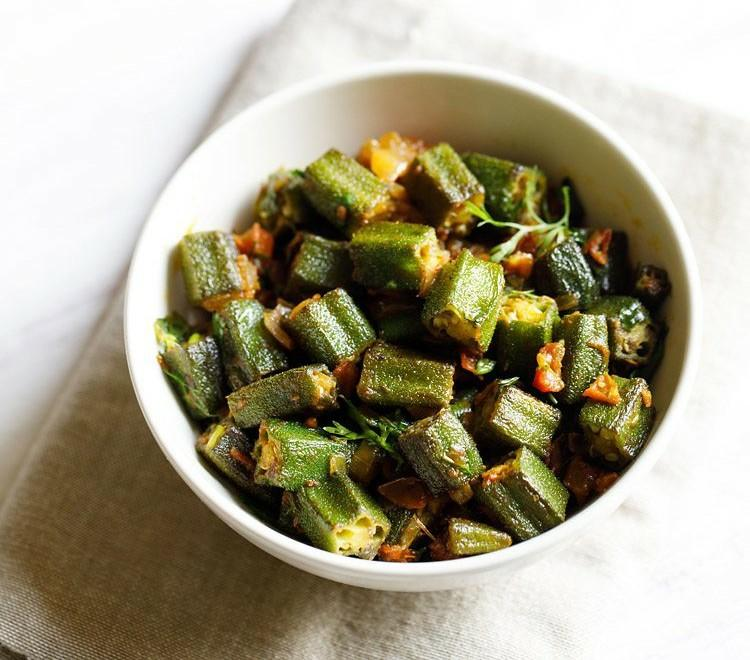BhindiMasala: (156, 133, 674, 562)
